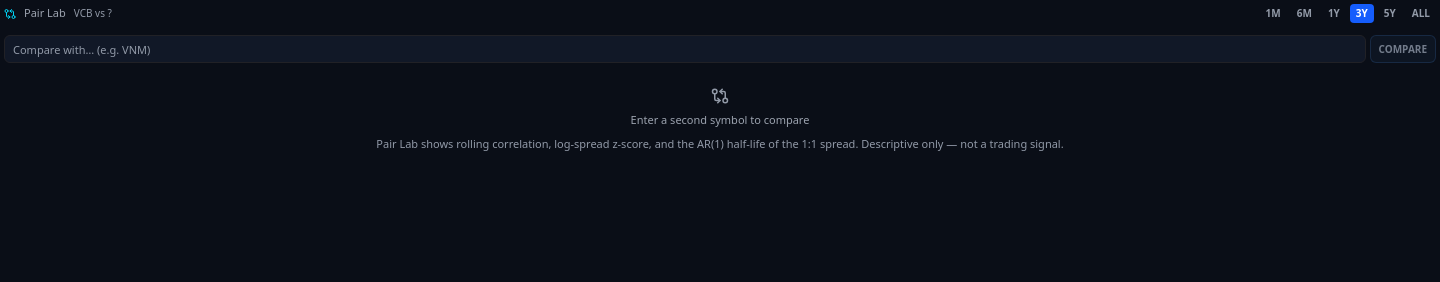
Test case: PairLabWidget OLS diagnostics › shows HTTP 500 failure and retries the diagnostics request
This screenshot has width=1440, height=282.
Type "VNM" into the field named "Pair symbol" at [685, 49], box top-left (4, 35), bottom-right (1366, 63)
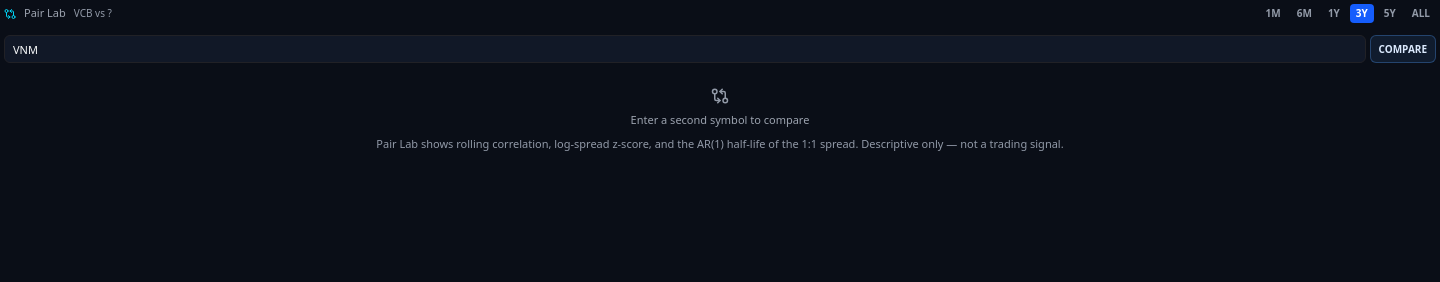
Click the button "Compare" at [1403, 49], box top-left (1370, 35), bottom-right (1436, 63)
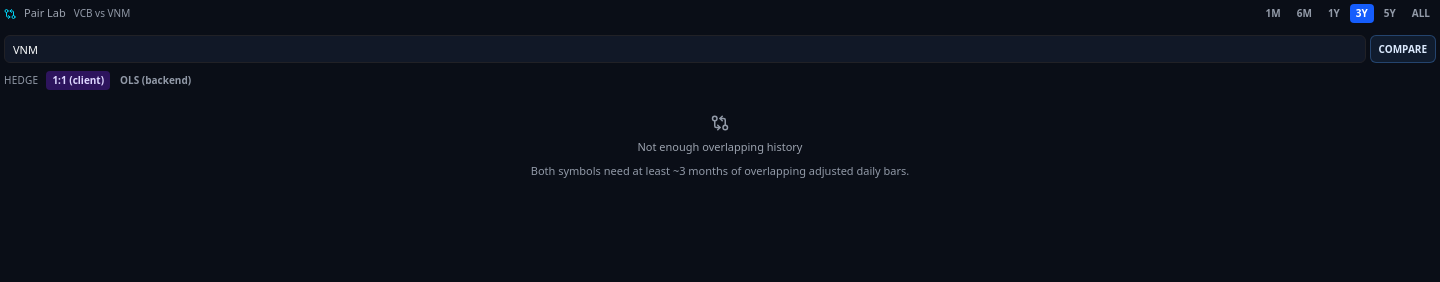
Click the button "OLS (backend)" at [156, 80], box top-left (114, 71), bottom-right (197, 90)
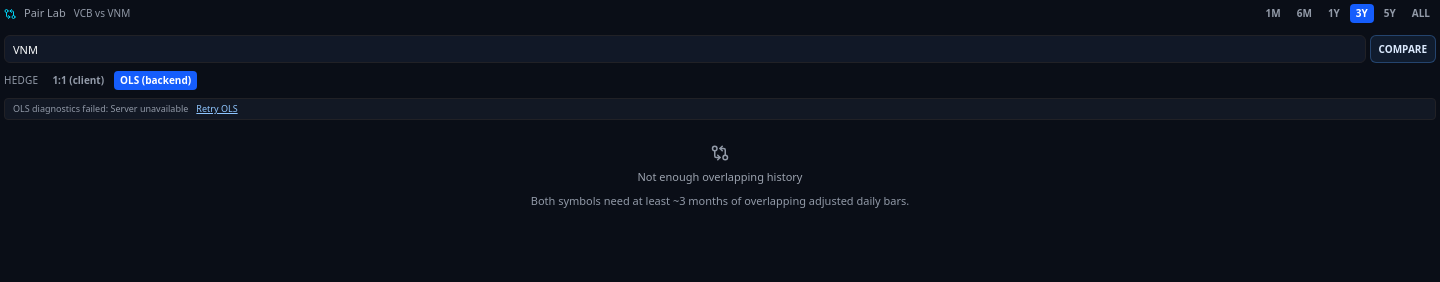
Click the button "Retry OLS" at [217, 109], box top-left (196, 103), bottom-right (238, 115)
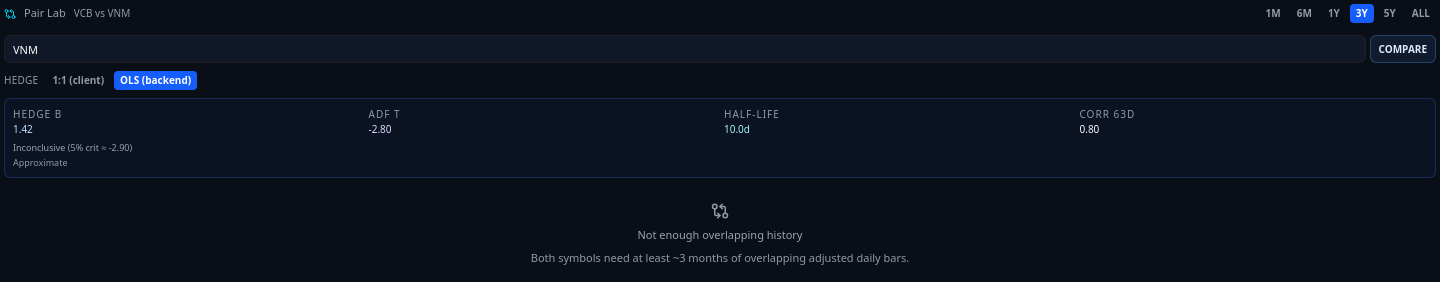
Now the text "1.42" is shown, box top-left (13, 122), bottom-right (33, 136)
